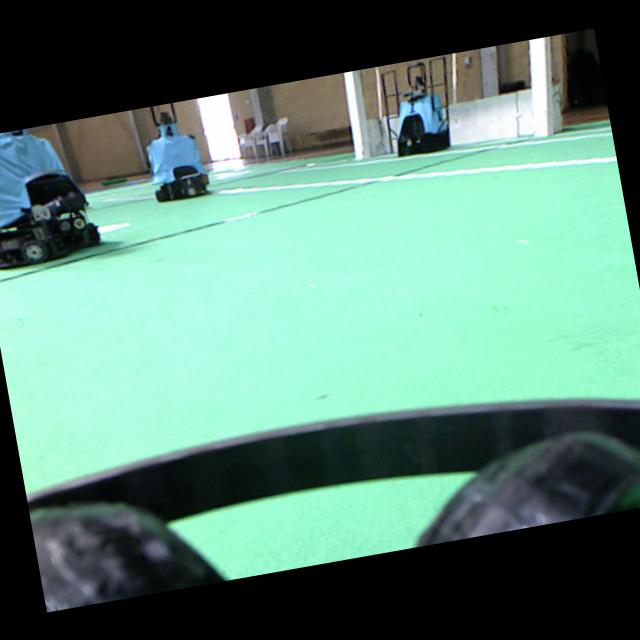goal: (528, 37, 553, 136), (342, 71, 364, 158)
